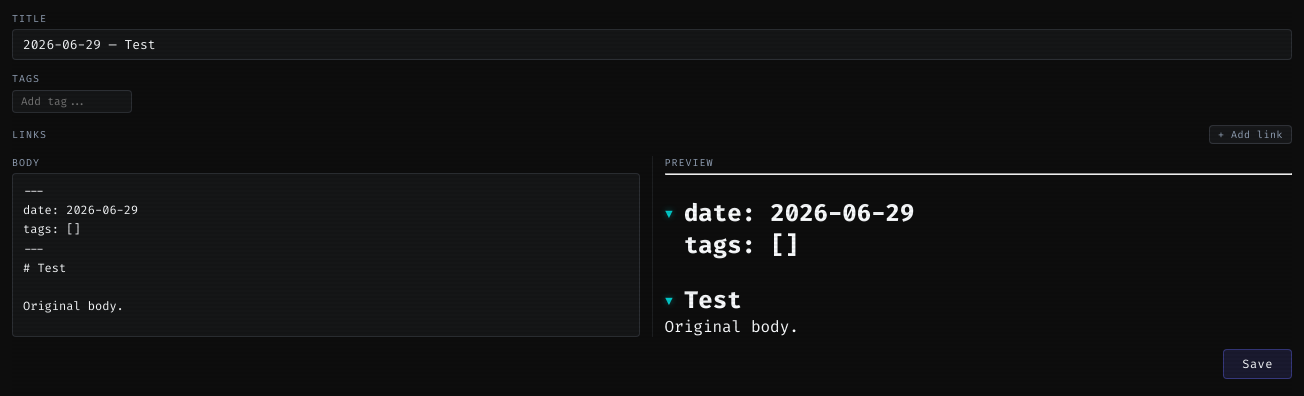
Test case: KnowledgeEditor — error handling › shows an error message when save fails
Replace the text in the text box labelled "Body" with "changed content" at (326, 255), box top-left (12, 173), bottom-right (640, 337)
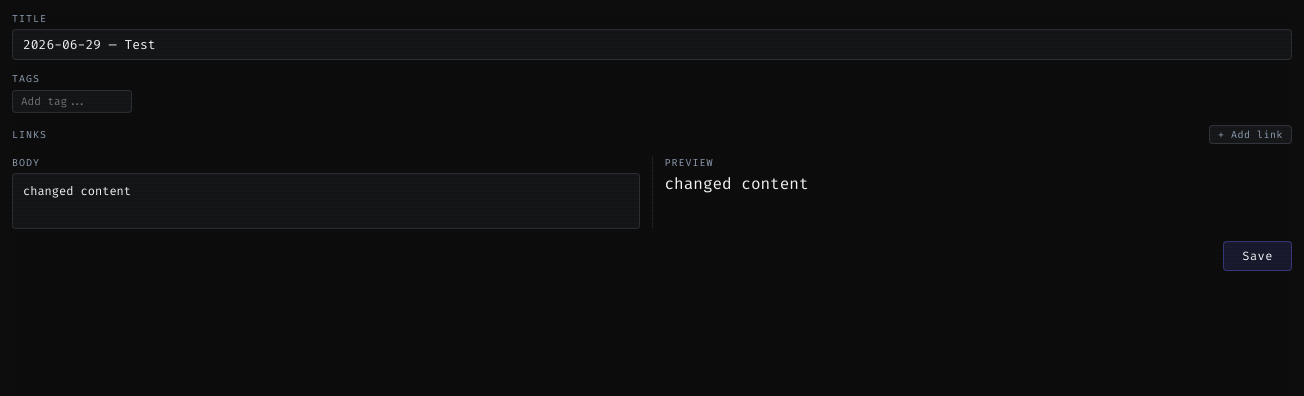
Click the button "Save".
click(1258, 256)  # box top-left (1223, 241), bottom-right (1292, 271)
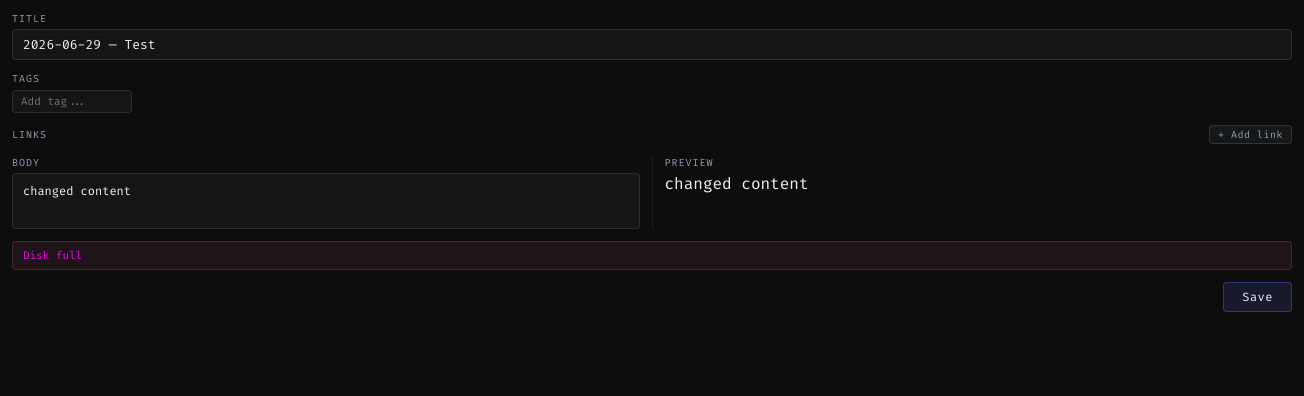
Now the text "Disk full" is shown, box top-left (12, 241), bottom-right (1292, 270)
